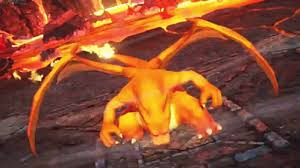charizard: (25, 17, 279, 160)
